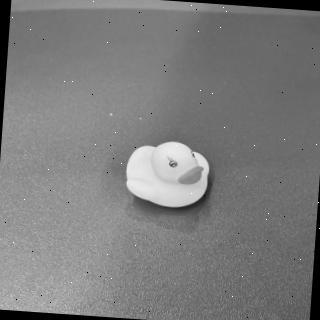duck_regular: (126, 139, 211, 210)
